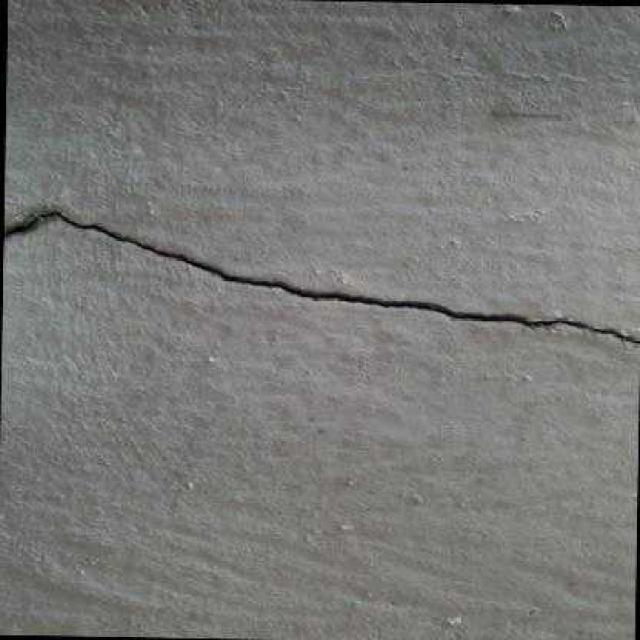D00: (2, 202, 640, 350)
